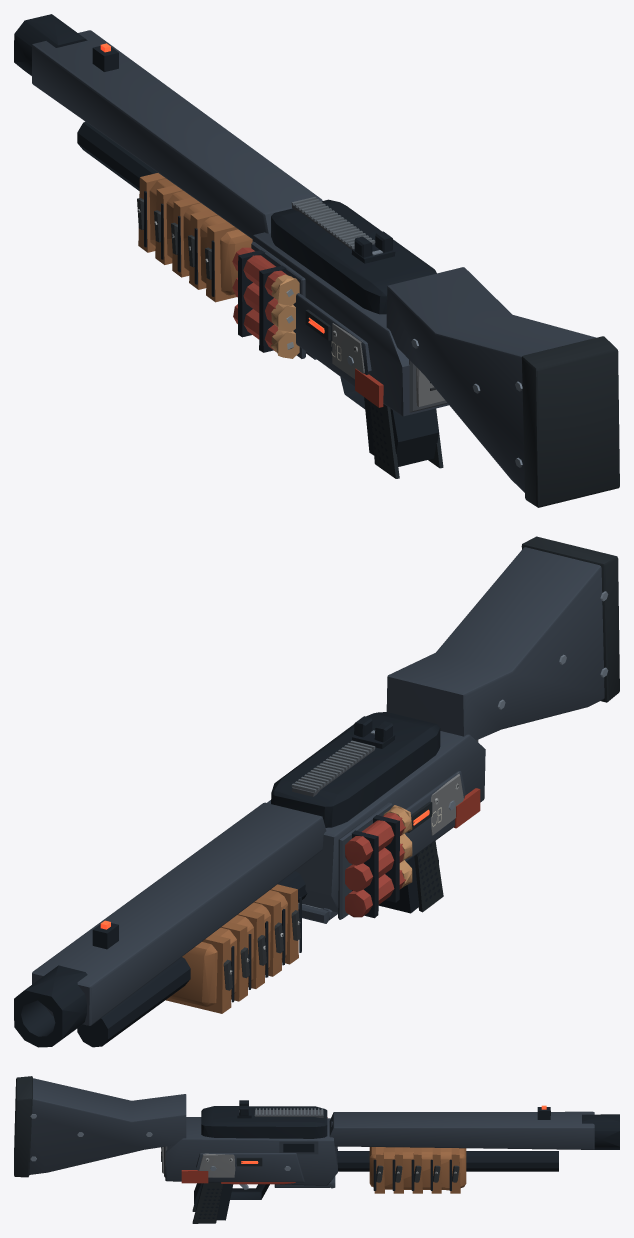
Rendered from shotgun.glb.
The picture shows the model from 3 angles, top to bottom: view 1: azimuth 30°, elevation 25°; view 2: azimuth 150°, elevation 25°; view 3: azimuth 270°, elevation 25°; orthographic projection. The views are drawn at different scales.
Visible parts, largest first — view 1: body, stock, pump; view 2: body, stock, pump; view 3: body, stock, pump.
Boxes of the visible parts, bbox=[...] form: body: bbox=[14, 14, 448, 478]; stock: bbox=[386, 267, 619, 507]; pump: bbox=[137, 173, 252, 302]; body: bbox=[14, 712, 485, 1047]; stock: bbox=[386, 536, 619, 740]; pump: bbox=[165, 884, 301, 1013]; body: bbox=[161, 1100, 619, 1223]; stock: bbox=[14, 1076, 186, 1177]; pump: bbox=[369, 1147, 466, 1193].
Bounding box in the file's own units: 0.2316 × 0.4239 × 1.79.
